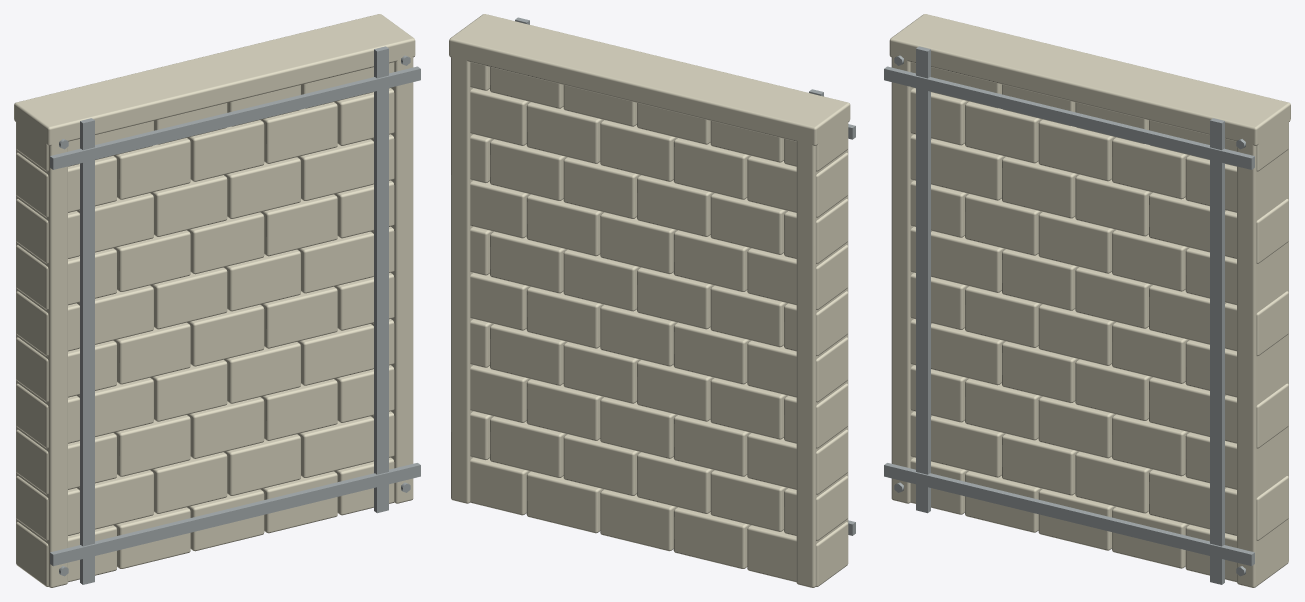
Rendered from modular-survival-base-builder-wall-rubble-masonry-rein-f370bfcd__24303.glb.
3 renders of one model, left to right at view 1: azimuth 30°, elevation 25°; view 2: azimuth 150°, elevation 25°; view 3: azimuth 330°, elevation 25°, orthographic.
Visible parts, largest first — view 1: wall-rubble-masonry-reinforced; view 2: wall-rubble-masonry-reinforced; view 3: wall-rubble-masonry-reinforced.
Boxes of the visible parts, left/top/right/bottom form: wall-rubble-masonry-reinforced: left=14, top=14, right=420, bottom=587; wall-rubble-masonry-reinforced: left=449, top=14, right=855, bottom=587; wall-rubble-masonry-reinforced: left=884, top=14, right=1290, bottom=587.
Size of the model in its own units: 2 by 2.4 by 0.3774.
